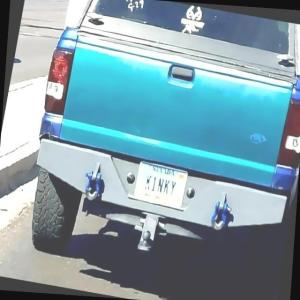Plate: (133, 160, 188, 208)
